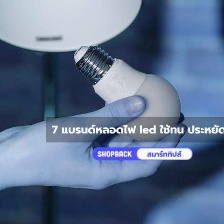light_bulb: (69, 41, 185, 144)
